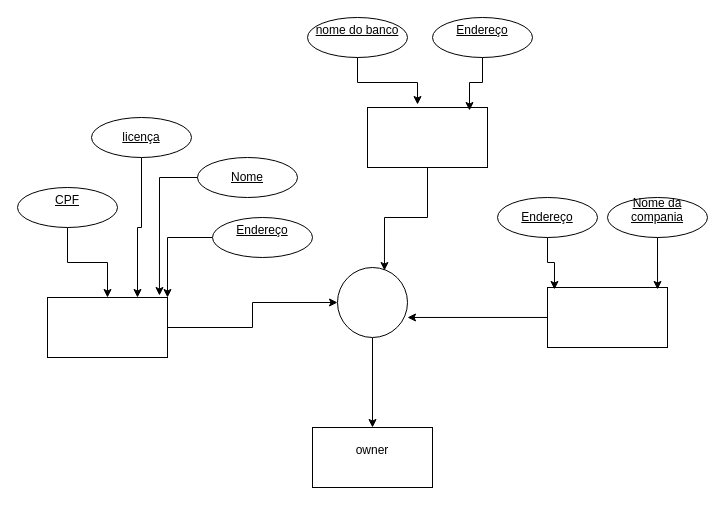
Image size: 725x505. Some labels were removed from this diagram. The centre of each missing label's shape, as x and y in pixels:
"Banco" goes at point (427, 137).
"company" goes at point (607, 317).
"Pessoa" goes at point (107, 327).
"uninted type" goes at point (372, 302).
